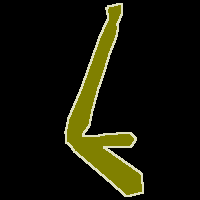tie: (65, 4, 143, 196)
